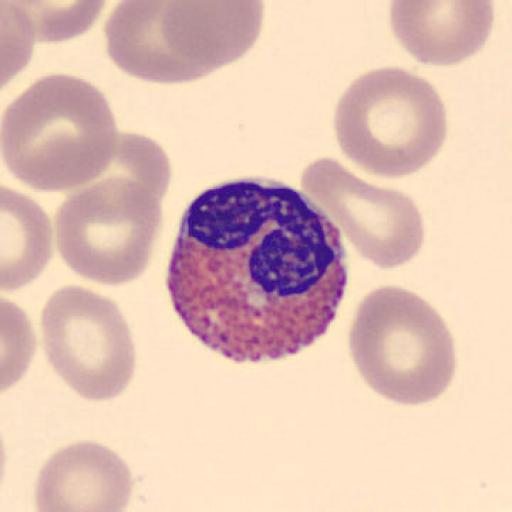RBC: (298, 155, 426, 271), (2, 71, 120, 193), (346, 283, 458, 408), (333, 65, 449, 179), (54, 175, 165, 288), (38, 282, 136, 402), (331, 164, 426, 270), (103, 0, 217, 86), (32, 438, 135, 512), (159, 1, 266, 71), (87, 129, 173, 215), (388, 1, 496, 67), (1, 184, 54, 293), (6, 0, 109, 44), (1, 297, 37, 393), (1, 0, 35, 90)
WBC: (163, 175, 350, 364)
